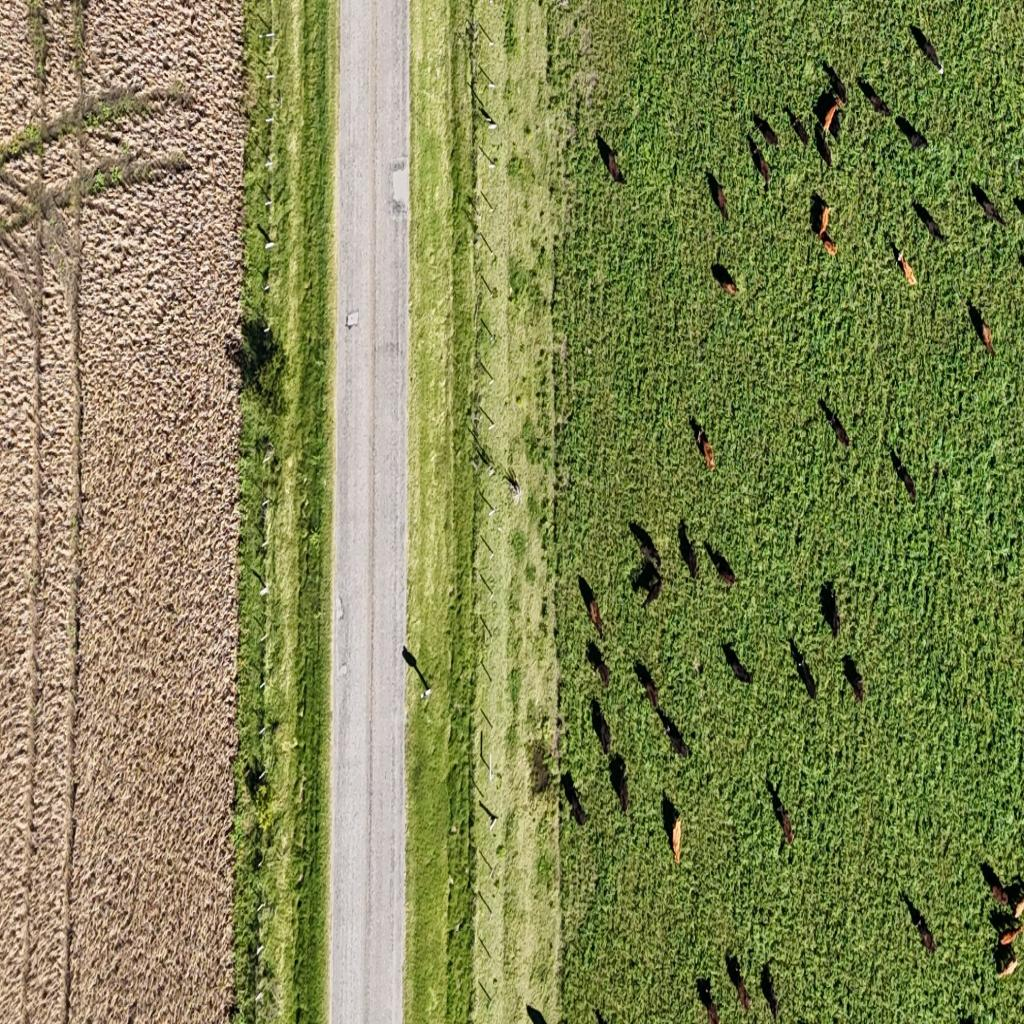cow: (818, 398, 851, 450), (560, 771, 588, 831), (726, 953, 753, 1013), (889, 444, 917, 501), (722, 642, 753, 686), (858, 76, 892, 116), (895, 114, 929, 152), (749, 136, 771, 194), (696, 414, 720, 466), (664, 718, 690, 766), (760, 960, 780, 1022), (696, 976, 721, 1024), (752, 111, 780, 149), (921, 34, 944, 76), (916, 914, 938, 956), (982, 193, 1007, 229), (602, 146, 626, 183), (975, 311, 994, 357), (815, 120, 832, 171), (795, 660, 817, 699), (788, 111, 809, 151), (670, 806, 684, 865), (715, 554, 738, 589), (641, 671, 660, 712), (896, 248, 917, 285), (994, 956, 1021, 983), (828, 69, 848, 105), (588, 595, 605, 637), (777, 804, 794, 845), (923, 214, 947, 243), (848, 667, 865, 706), (640, 537, 662, 566), (683, 543, 699, 582), (642, 580, 662, 611), (999, 923, 1023, 948), (714, 180, 728, 222), (826, 601, 841, 640), (990, 877, 1008, 908), (826, 99, 841, 133), (617, 774, 629, 814), (818, 200, 830, 239), (596, 658, 610, 690), (600, 721, 612, 757), (721, 276, 738, 296), (1012, 891, 1024, 919), (824, 238, 840, 258)
